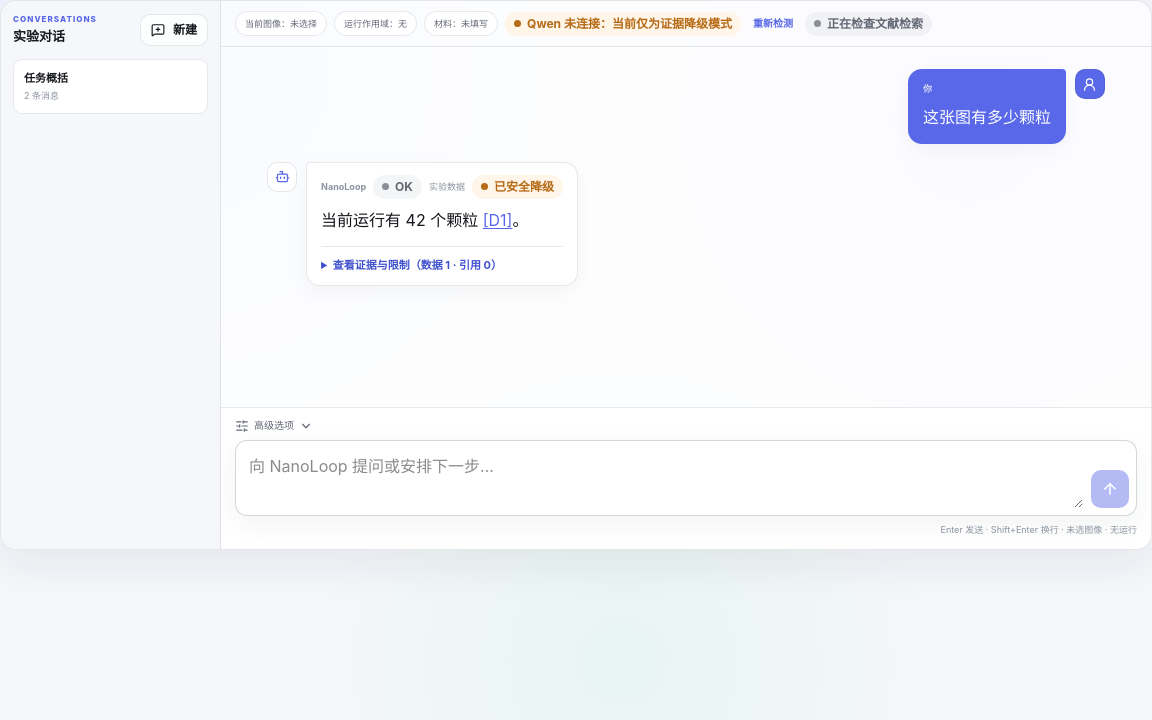
Test: ConversationPanel › sends a general chat message through the conversation endpoint
Type "这个系统能做什么" into the text box named "发送实验问题" at (663, 478), box x1=243 y1=448 x2=1083 y2=508
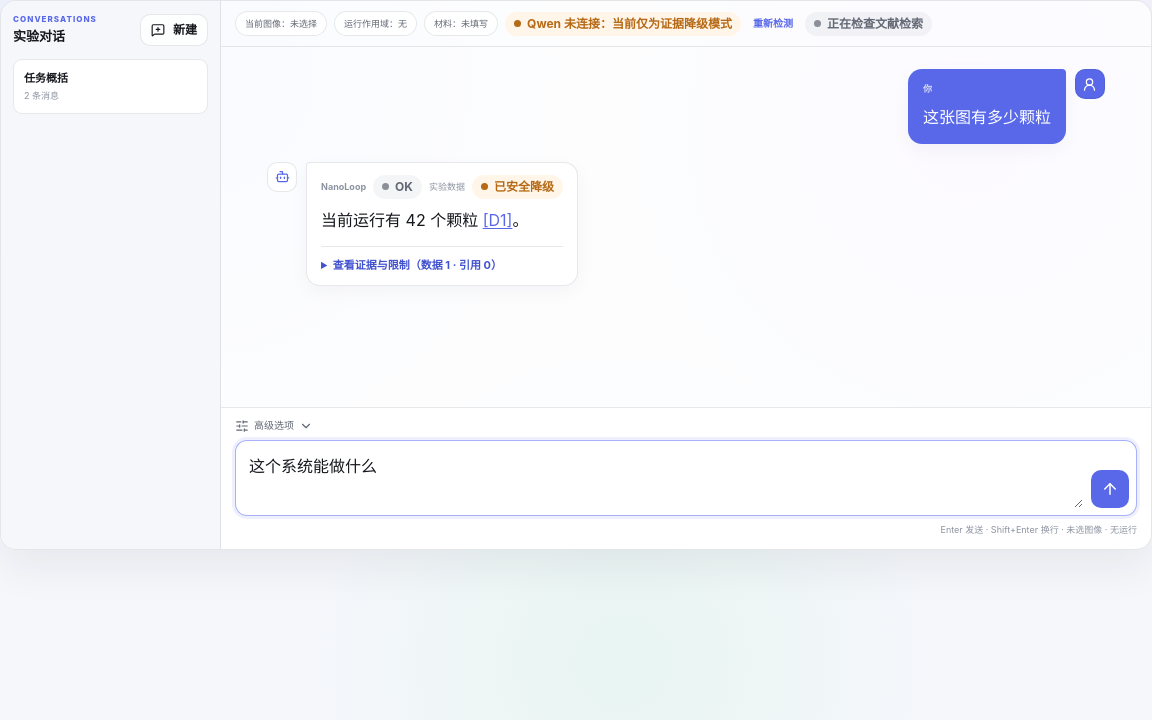
Click the button named "发送消息" at (1110, 489), box x1=1091 y1=470 x2=1129 y2=508
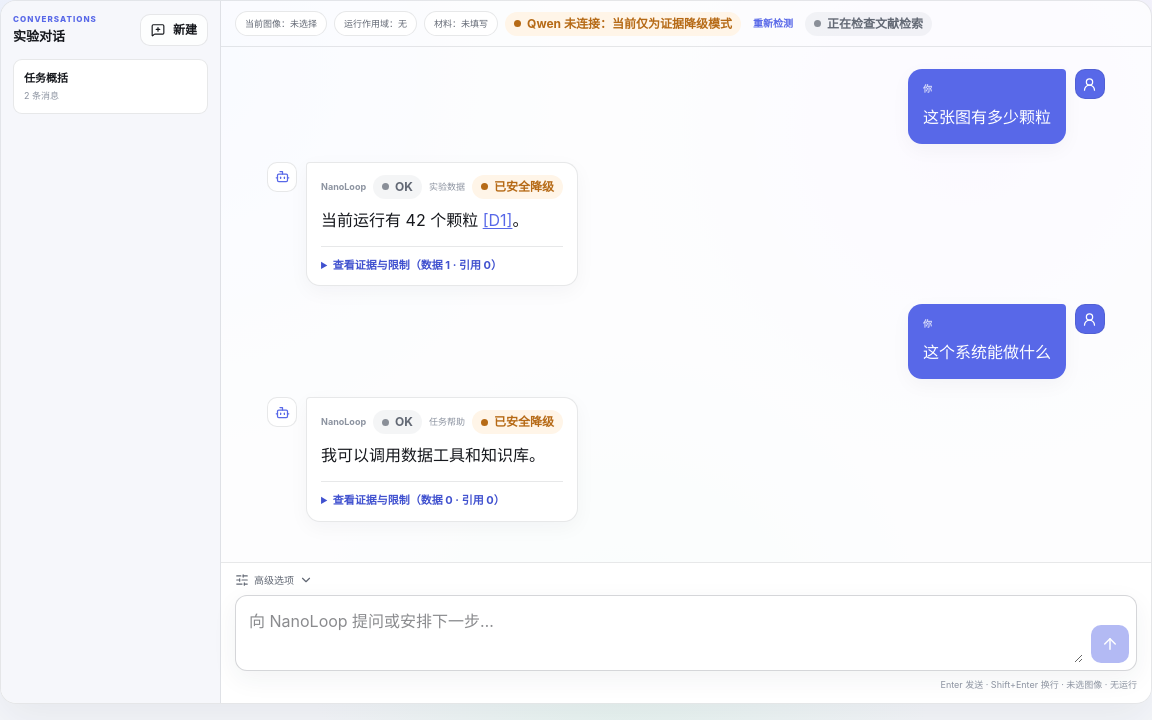
Check: the text "我可以调用数据工具和知识库。" is shown, box x1=321 y1=442 x2=563 y2=469
